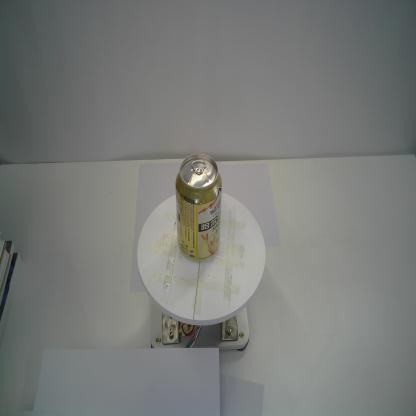Alcohol: (174, 151, 223, 264)
